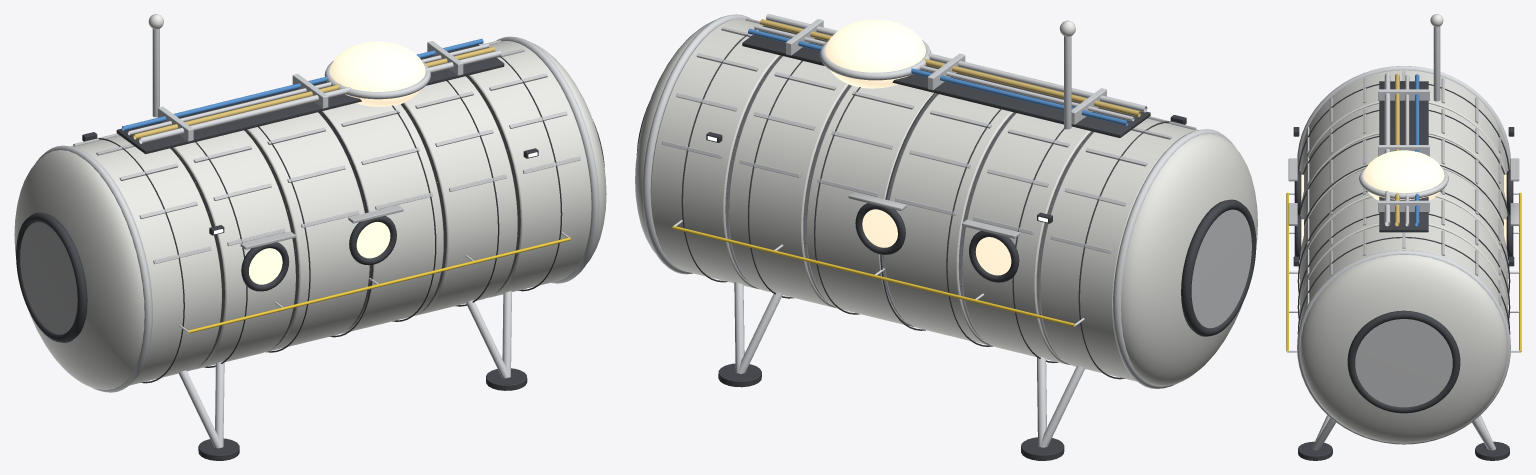
File: lab_module.glb
3 renders of one model, left to right at view 1: azimuth 30°, elevation 25°; view 2: azimuth 150°, elevation 25°; view 3: azimuth 270°, elevation 25°, orthographic. The views are drawn at different scales.
Visible parts, largest first — view 1: lab_module; view 2: lab_module; view 3: lab_module.
Boxes of the visible parts, x1,y1,x2,y2 form: lab_module: (14, 14, 606, 460); lab_module: (635, 14, 1257, 460); lab_module: (1286, 14, 1521, 460).
Size of the model in its own units: 9.38 by 6.52 by 4.29.
